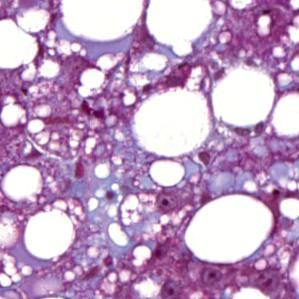steatosis: (184, 188, 278, 265), (148, 158, 187, 188)
